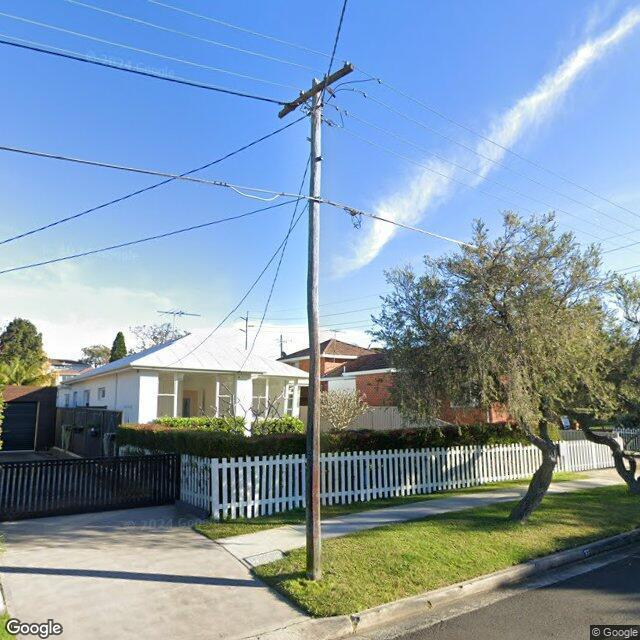HV-transmission: (239, 316, 255, 333)
crossarm: (277, 62, 355, 118)
timber-pole: (306, 78, 323, 580), (245, 311, 249, 350)
